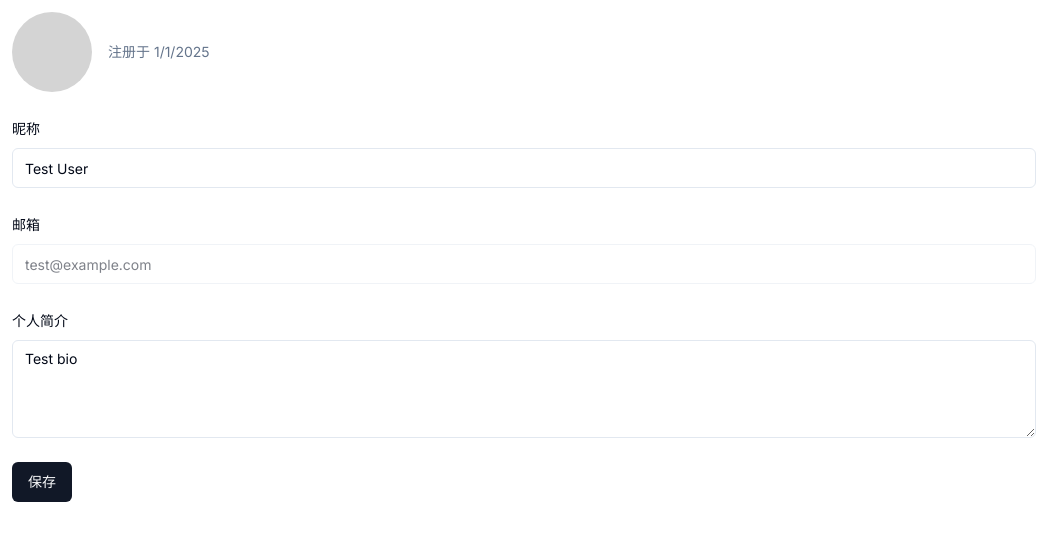
ProfileTab › 表单验证 › 有验证错误时保存按钮应该禁用
The image size is (1048, 547).
Clear the field labelled "昵称" at (524, 168), box [12,148,1036,188]
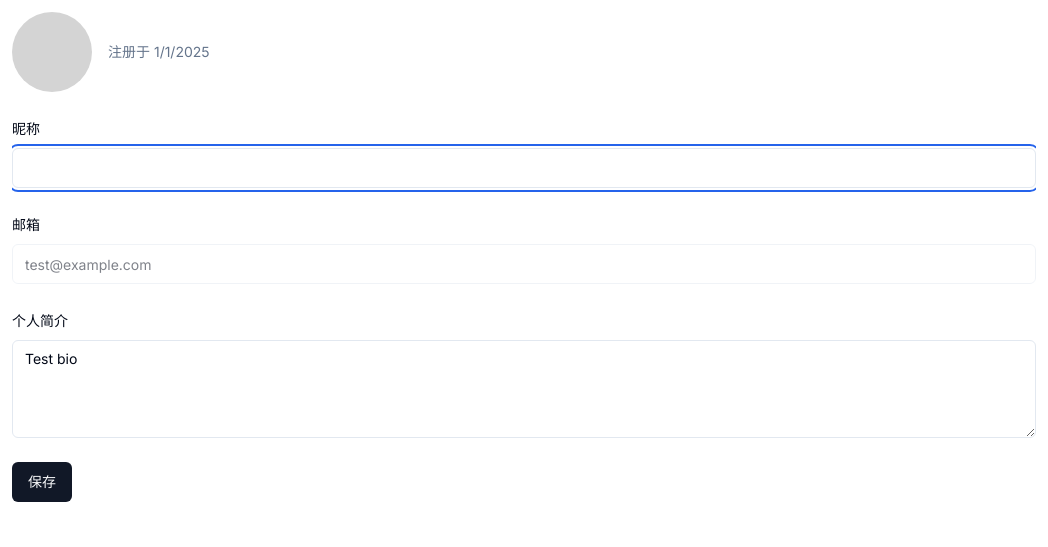
Press Tab
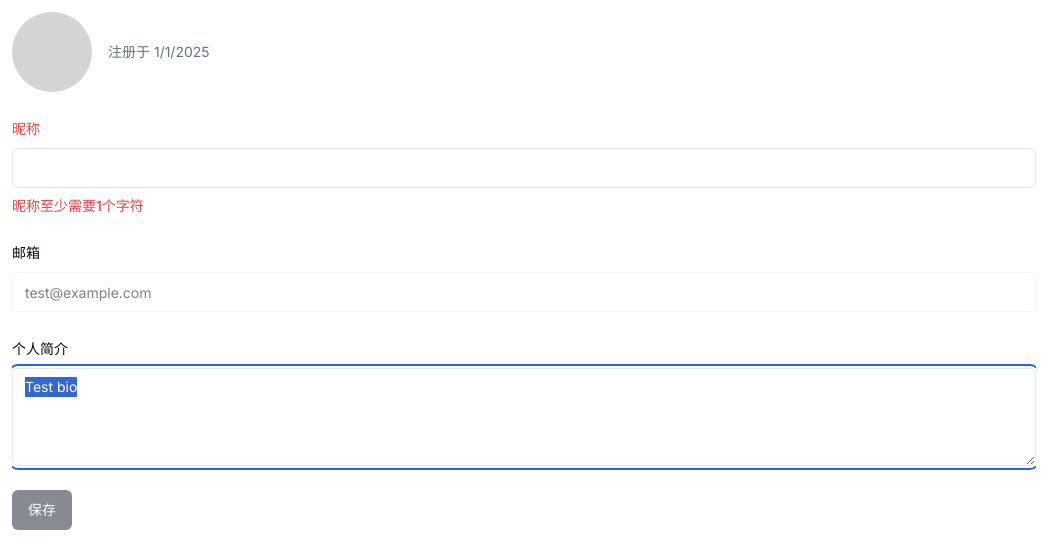
Now the button "保存" is disabled, box [12,490,72,530]
